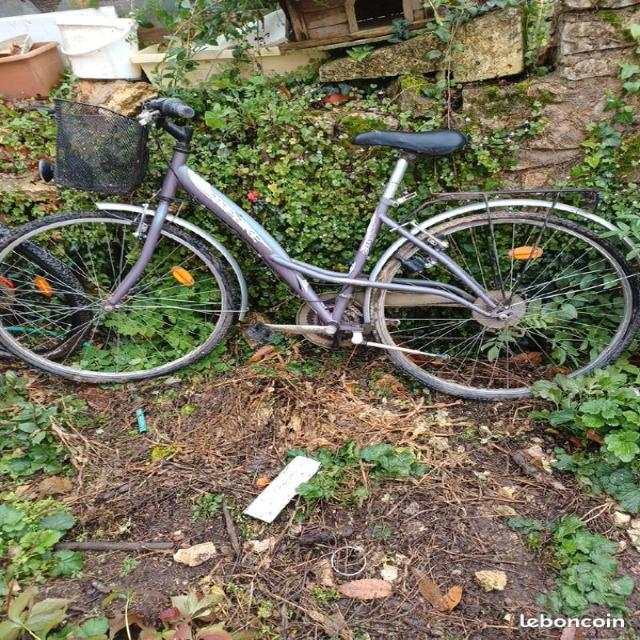Bike: (0, 98, 639, 400)
